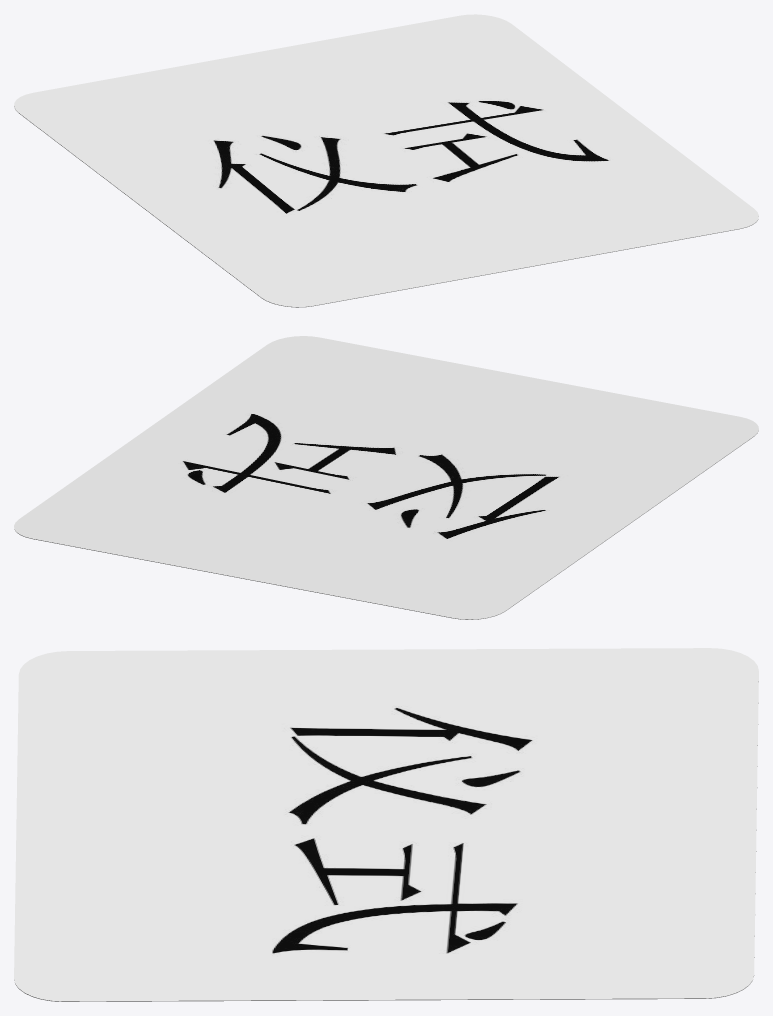
The model's file is YiShi.FBX.
The picture shows the model from 3 angles, top to bottom: view 1: azimuth 30°, elevation 25°; view 2: azimuth 150°, elevation 25°; view 3: azimuth 270°, elevation 25°; orthographic projection. The views are drawn at different scales.
Parts seen in each view (by area): view 1: Rectangle001; view 2: Rectangle001; view 3: Rectangle001.
Part boxes in pixels (<box>): Rectangle001: <box>14,14,758,307</box>; Rectangle001: <box>14,336,758,619</box>; Rectangle001: <box>14,648,758,1001</box>.
Size of the model in its own units: 60.32 by 3.91 by 60.38.
